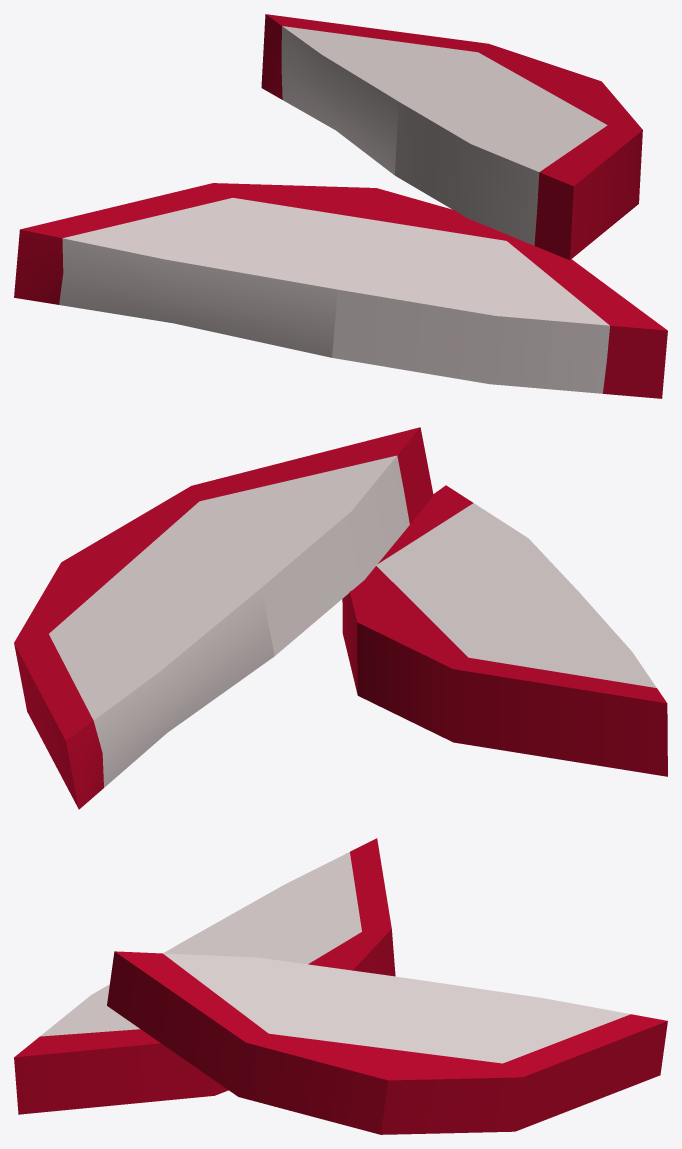
The model's file is apple_slices_optional.fbx.
The picture shows the model from 3 angles, top to bottom: view 1: azimuth 30°, elevation 25°; view 2: azimuth 150°, elevation 25°; view 3: azimuth 270°, elevation 25°; orthographic projection. The views are drawn at different scales.
Visible parts, largest first — view 1: pCube7, pCube8; view 2: pCube8, pCube7; view 3: pCube8, pCube7.
Part boxes in pixels (x1,y1,x2,y2): pCube7: (14,183,667,398); pCube8: (261,14,642,260); pCube8: (14,427,433,809); pCube7: (342,485,667,776); pCube8: (107,951,667,1134); pCube7: (14,838,395,1114).
Size of the model in its own units: 13.62 by 3.93 by 15.47.
